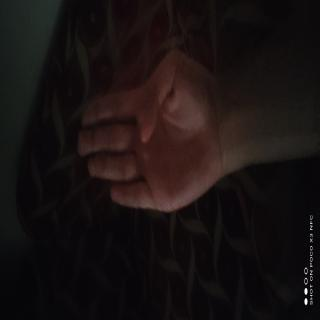KAAF: (42, 155, 128, 320)
